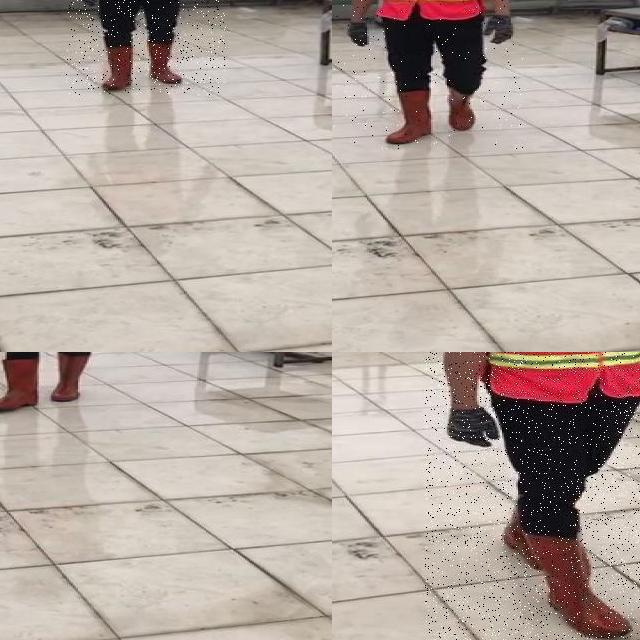BOOTS: (525, 532, 634, 639), (502, 493, 541, 572), (387, 88, 437, 145), (0, 357, 43, 410), (51, 353, 89, 401), (147, 42, 186, 83), (102, 46, 138, 89), (445, 87, 479, 132)
GLOVE: (444, 405, 501, 449), (482, 12, 519, 46), (347, 19, 373, 47), (81, 0, 98, 9), (197, 0, 220, 6)
VEST: (479, 352, 640, 401), (373, 0, 481, 22)
